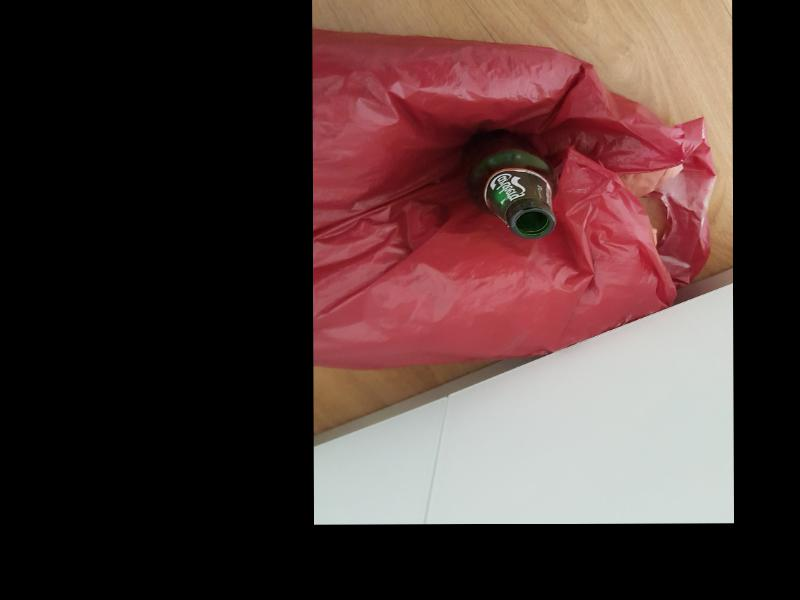Beer: (465, 128, 555, 238)
